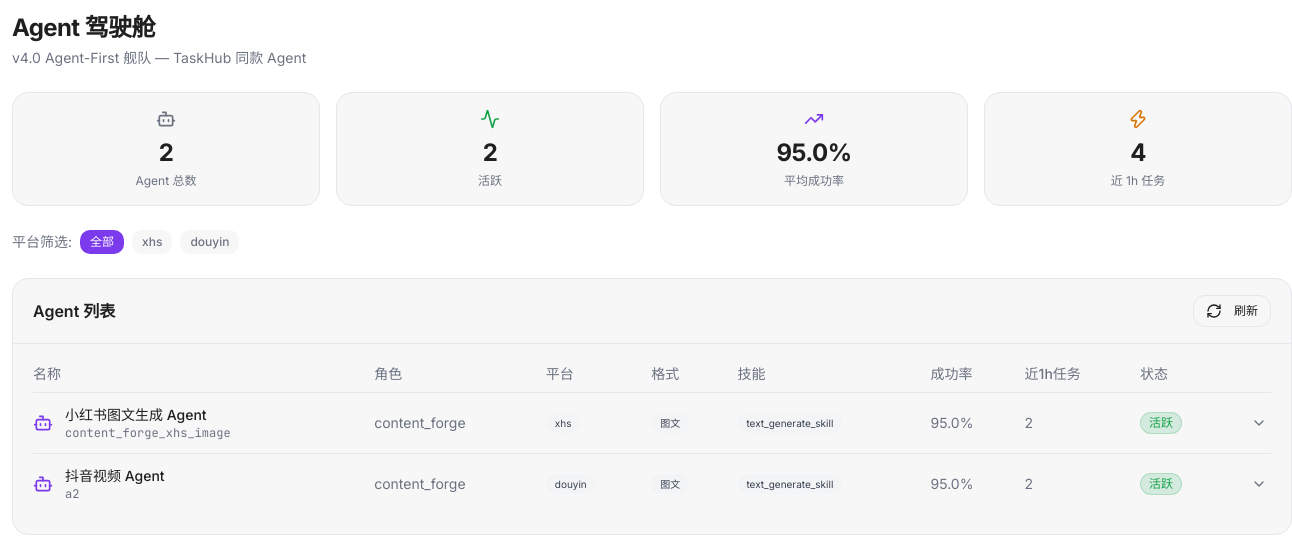
Test: AgentOrchestraPage (Agent Fleet) › filters agents by platform
Expected: the text "小红书图文生成 Agent" is shown, [65, 405, 231, 425]
Expected: the text "抖音视频 Agent" is shown, [65, 466, 165, 486]
Click the button "xhs". click: click(152, 242)
box: [132, 230, 172, 254]
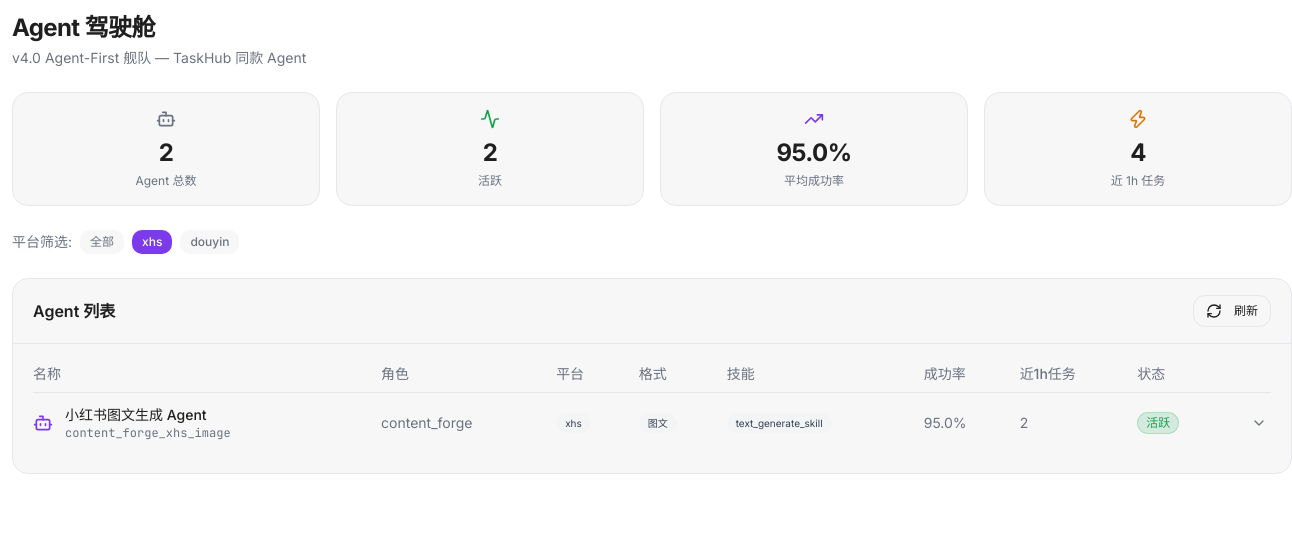
Expected: the text "小红书图文生成 Agent" is shown, [65, 405, 231, 425]
Result: the text "抖音视频 Agent" is gone
